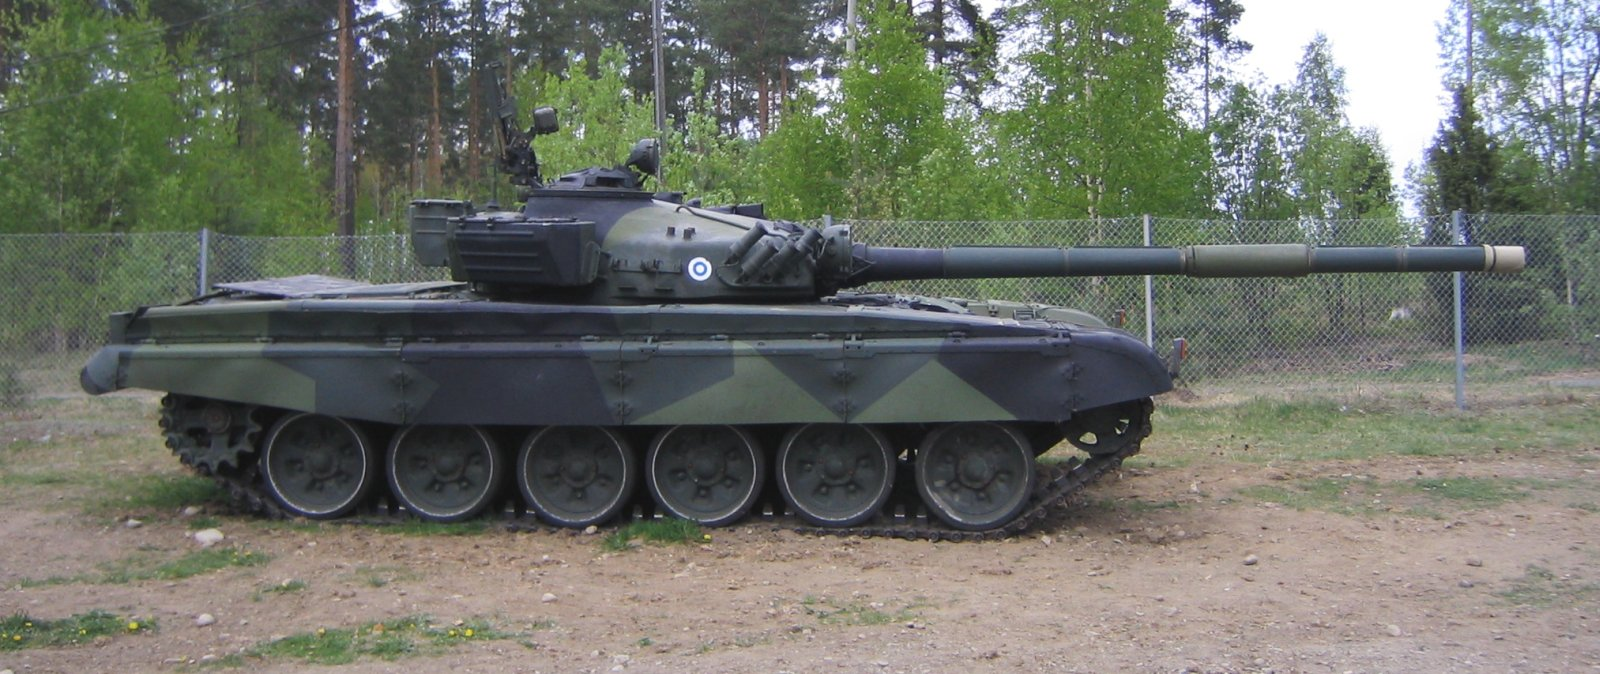t72: (87, 161, 1497, 540)
